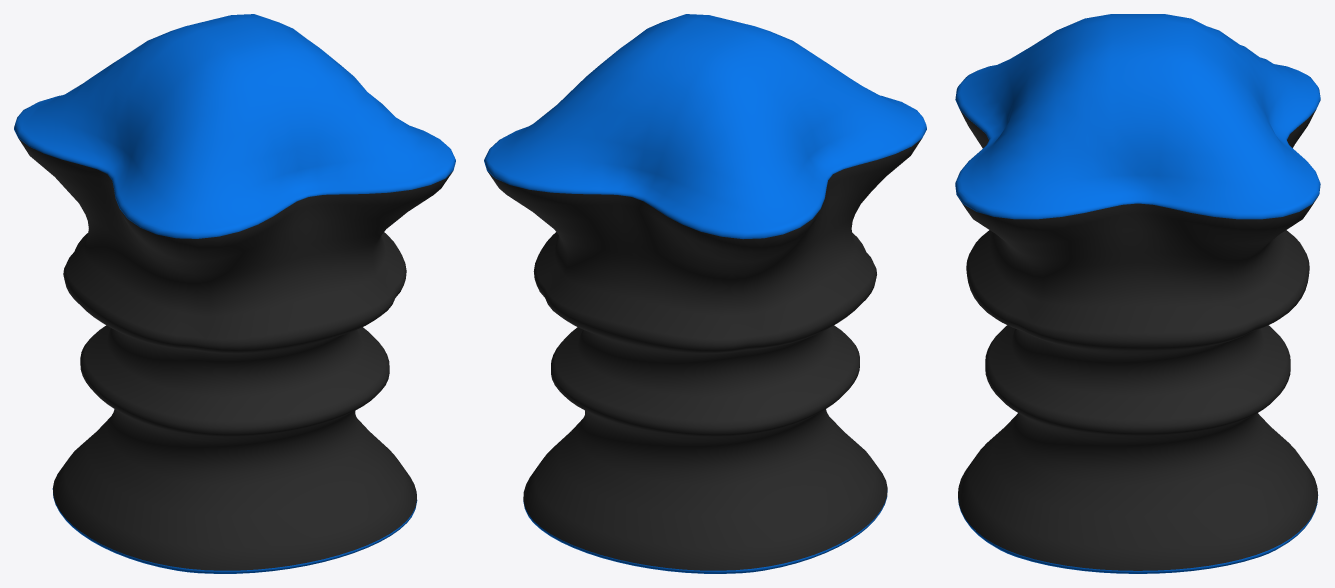
The model's file is Blue Artifact.glb.
The picture shows the model from 3 angles, left to right: view 1: azimuth 30°, elevation 25°; view 2: azimuth 150°, elevation 25°; view 3: azimuth 270°, elevation 25°; orthographic projection.
Visible parts, largest first — view 1: Blue Artifact; view 2: Blue Artifact; view 3: Blue Artifact.
Part boxes in pixels (x1,y1,x2,y2): Blue Artifact: (14, 14, 455, 573); Blue Artifact: (484, 14, 926, 573); Blue Artifact: (955, 14, 1320, 573).
Bounding box in the file's own units: 0.1781 × 0.2516 × 0.1781.
